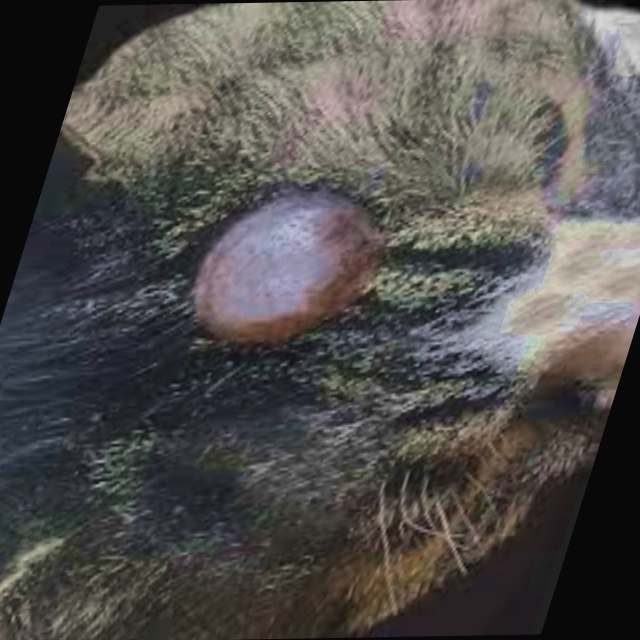lump_and_bump: (158, 194, 404, 349)
